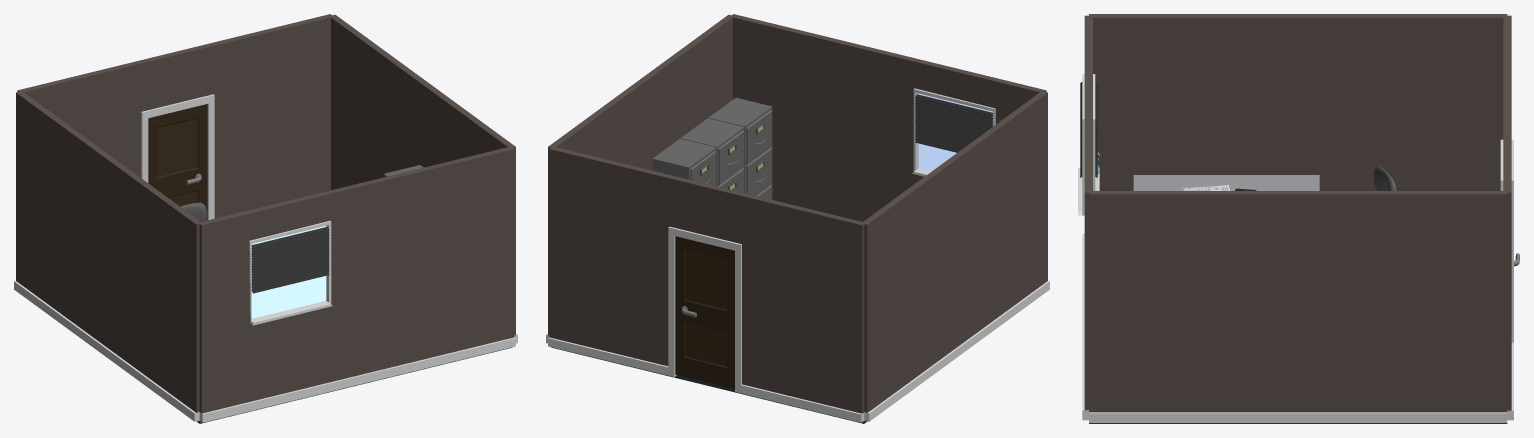
The model's file is Office.fbx.
3 renders of one model, left to right at view 1: azimuth 30°, elevation 25°; view 2: azimuth 150°, elevation 25°; view 3: azimuth 270°, elevation 25°, orthographic. The views are drawn at different scales.
Visible parts, largest first — view 1: Cube.003, Cube.001, DeurPost, Cube.009, Deur; view 2: DeurPost, Cube.001, Cube.003, Cube.009, Deur, Cube.002, Cube.010, Cube.004, Floor; view 3: Cube.009, Cube.001, Cube.003, DeurPost, Bureau, Office Chair, Floor.
Part boxes in pixels (x1,y1,x2,y2): Cube.003: (198,146,515,422); Cube.001: (14,91,202,421); DeurPost: (17,14,333,220); Cube.009: (331,14,517,343); Deur: (148,104,207,219); DeurPost: (548,147,864,422); Cube.001: (861,91,1049,421); Cube.003: (730,14,1046,221); Cube.009: (546,14,734,343); Deur: (675,236,734,388); Cube.002: (708,97,772,199); Cube.010: (680,118,744,192); Cube.004: (652,138,716,185); Floor: (551,347,866,423); Cube.009: (1089,191,1507,422); Cube.001: (1089,14,1507,190); Cube.003: (1078,15,1099,420); DeurPost: (1500,15,1513,420); Bureau: (1133,175,1319,190); Office Chair: (1373,166,1396,190); Floor: (1089,423,1507,423).
Bounding box in the file's own units: 5.16 × 3.05 × 5.28.
